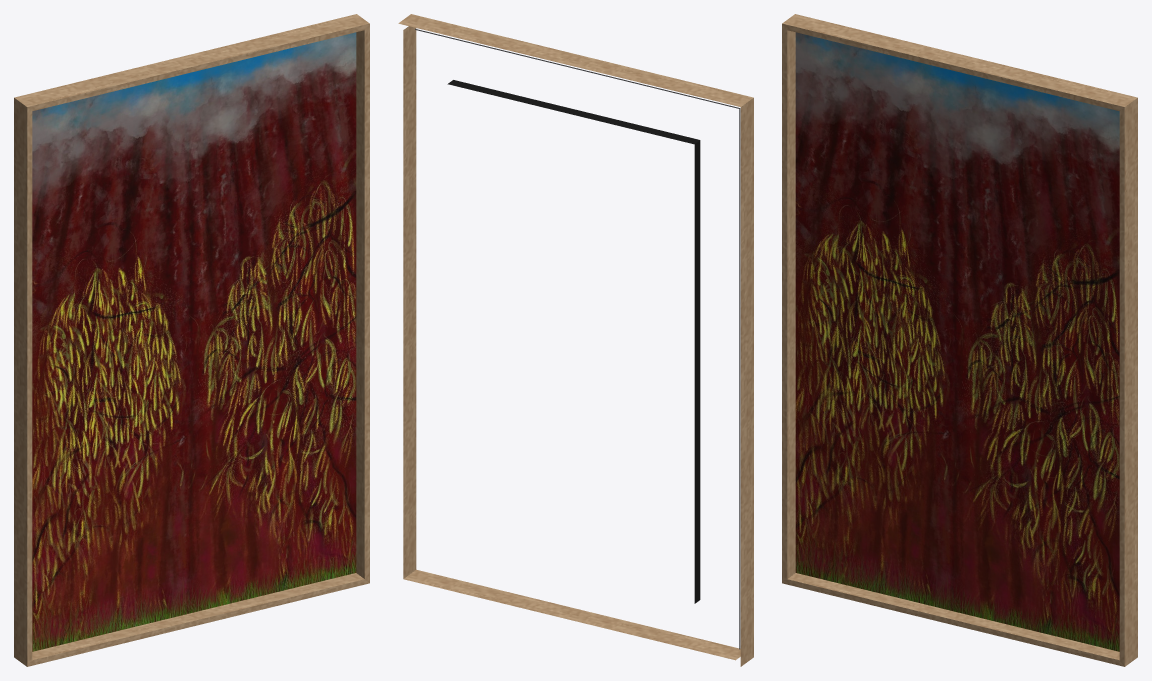
The model's file is os025_moyen_caisse-chene.glb.
3 views of the same model, side by side, from view 1: azimuth 30°, elevation 25°; view 2: azimuth 150°, elevation 25°; view 3: azimuth 330°, elevation 25° (orthographic).
Parts seen in each view (by area): view 1: os025_moyen_caisse-chene; view 2: os025_moyen_caisse-chene; view 3: os025_moyen_caisse-chene.
Boxes of the visible parts, x1,y1,x2,y2 form: os025_moyen_caisse-chene: (14, 14, 369, 666); os025_moyen_caisse-chene: (398, 14, 753, 666); os025_moyen_caisse-chene: (782, 14, 1137, 666).
Size of the model in its own units: 0.5304 by 0.828 by 0.035.
4 materials, 2 textured.
